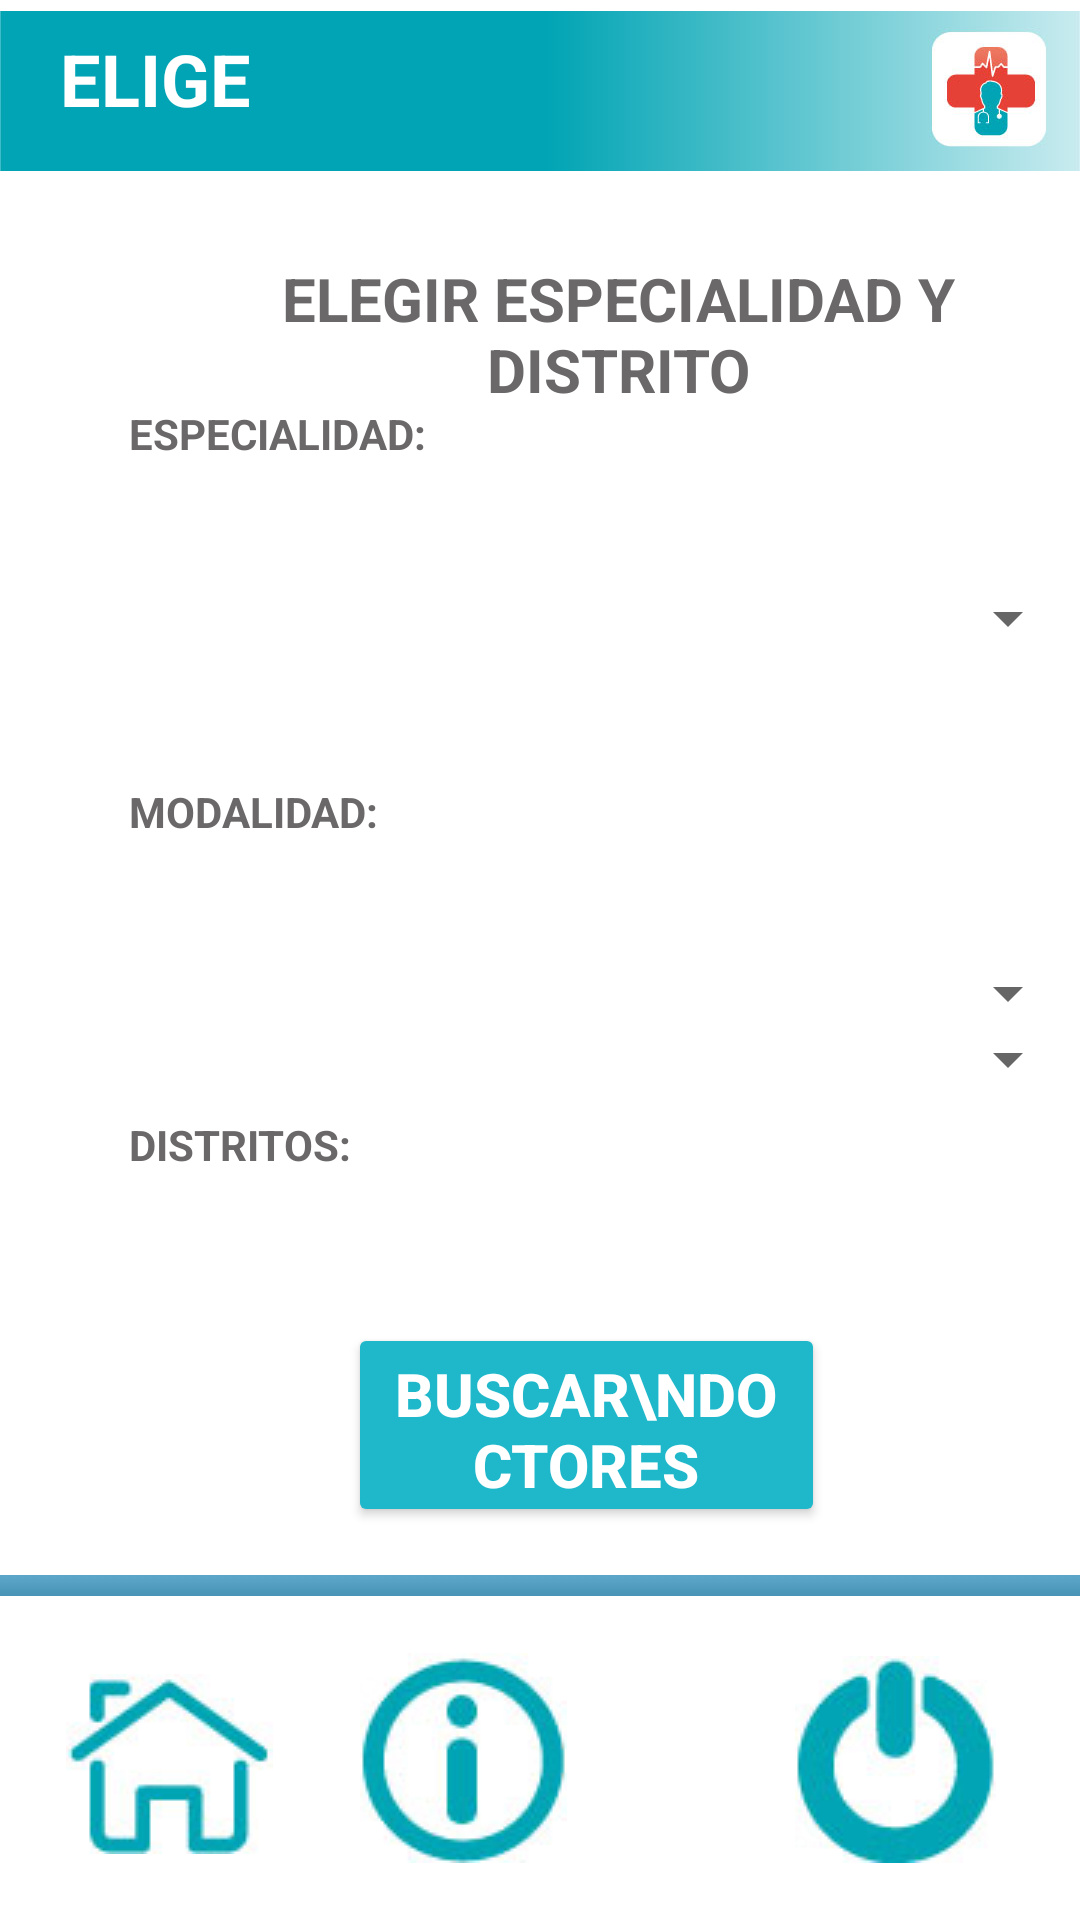

Named icons in this screenshot (1080*1920) and their centers, (x=x, y=y):
apagar: (x=895, y=1760)
info: (x=463, y=1760)
inicio: (x=170, y=1766)
